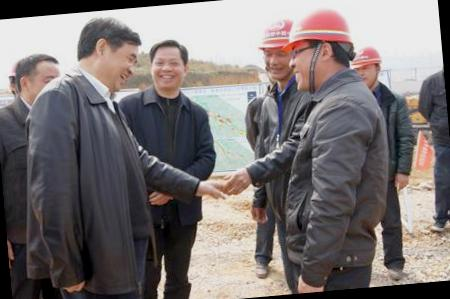no_helmet: (68, 9, 144, 94), (143, 34, 195, 96), (12, 48, 66, 101)
